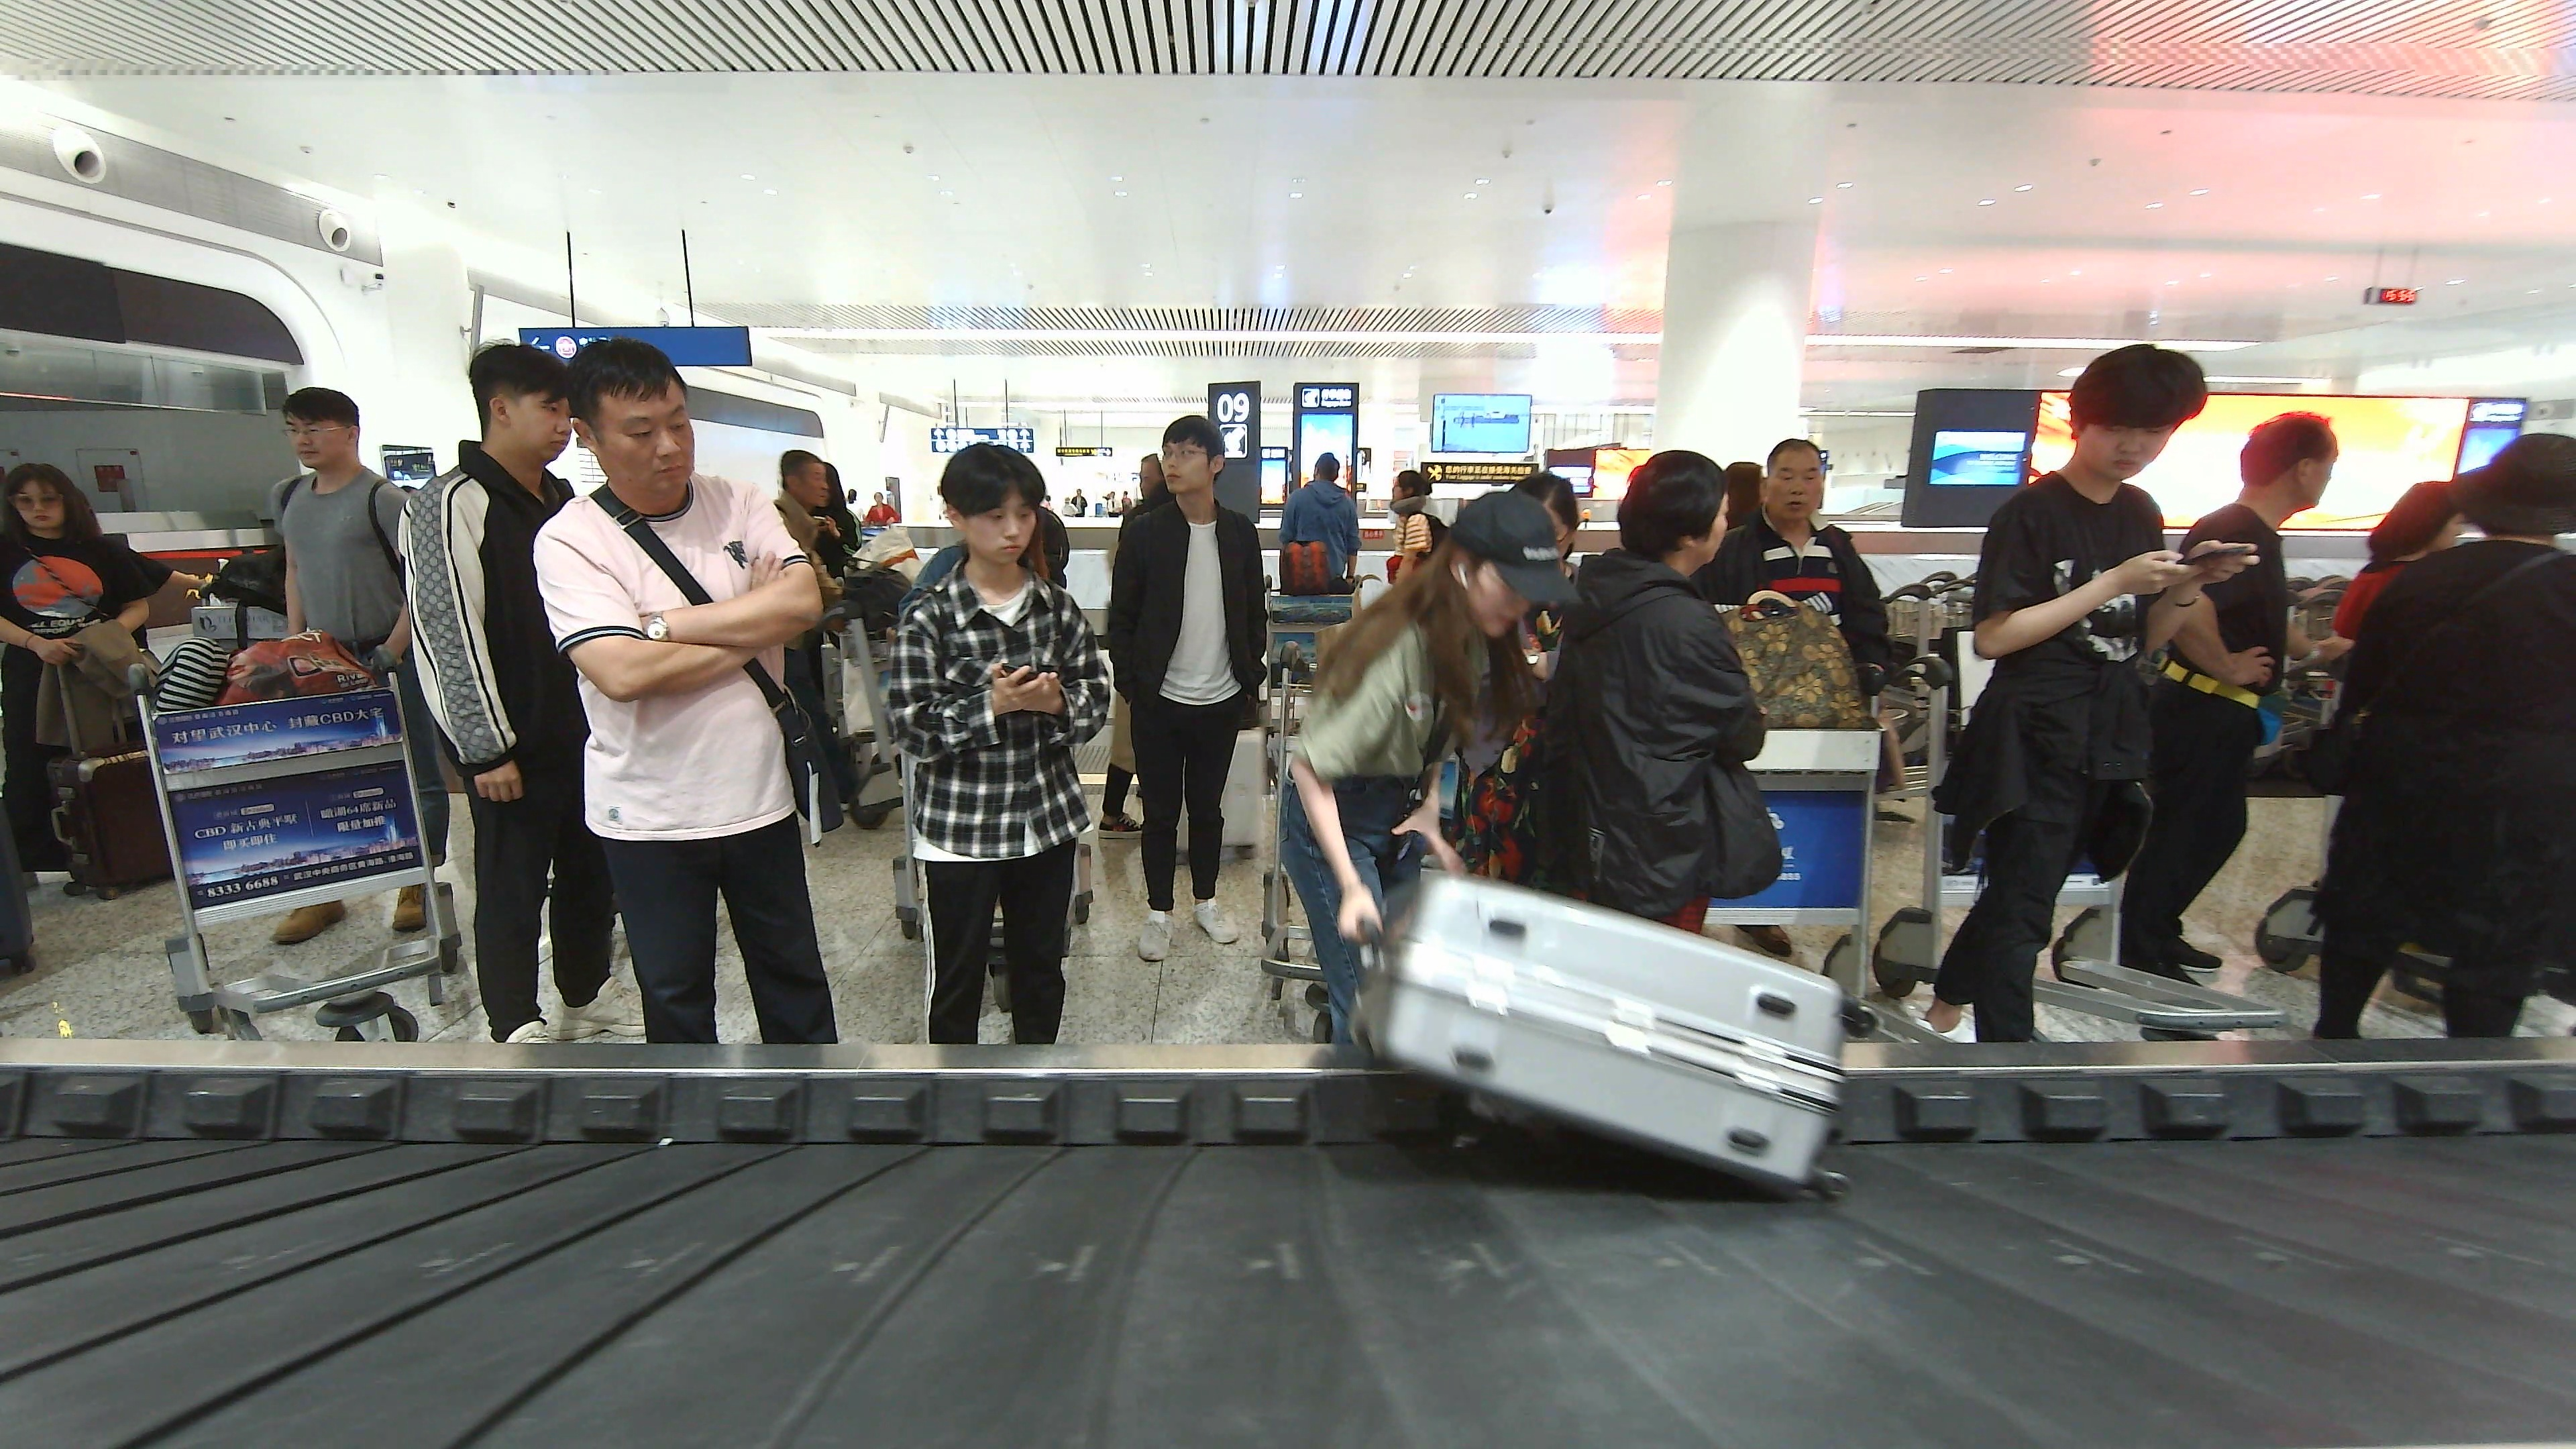box: (1352, 862, 1851, 1192)
face: (601, 382, 690, 495), (965, 476, 1035, 563), (2083, 405, 2169, 476), (513, 375, 574, 458), (287, 398, 345, 467), (1768, 445, 1821, 518), (1161, 431, 1210, 492), (15, 478, 62, 527), (874, 492, 881, 502)
people: (1277, 484, 1558, 941), (528, 335, 822, 704), (1970, 339, 2263, 658), (2336, 425, 2576, 750), (405, 339, 563, 802), (878, 438, 1103, 759), (1558, 444, 1775, 769), (1106, 417, 1267, 702), (1, 459, 202, 660), (271, 383, 419, 639)
